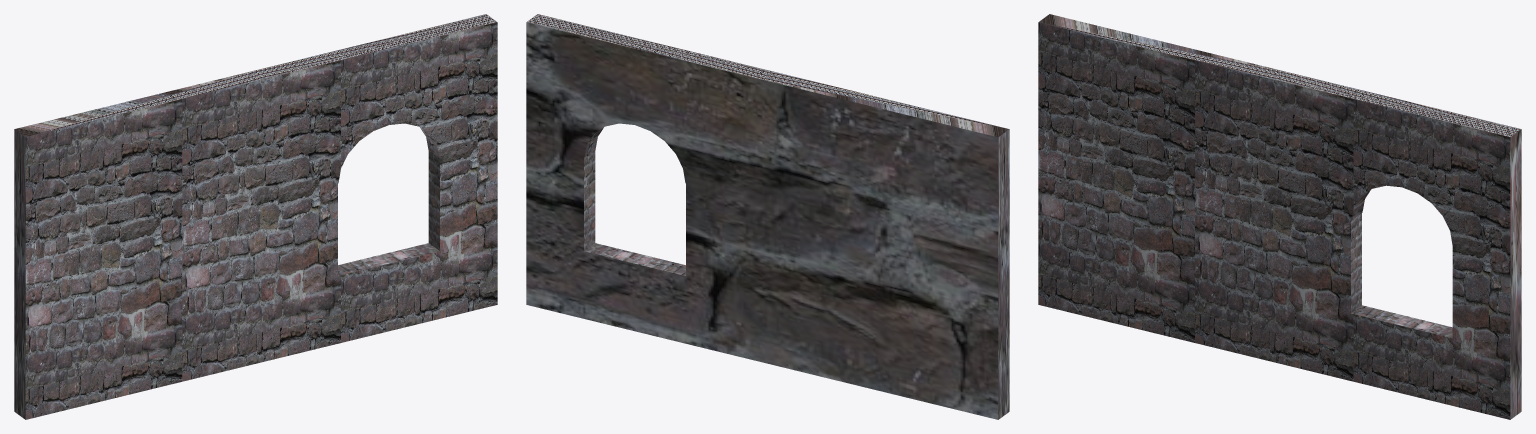
File: wallWithWindow.fbx
3 renders of one model, left to right at view 1: azimuth 30°, elevation 25°; view 2: azimuth 150°, elevation 25°; view 3: azimuth 330°, elevation 25°, orthographic.
Parts seen in each view (by area): view 1: pCube4; view 2: pCube4; view 3: pCube4.
Boxes of the visible parts, x1,y1,x2,y2 form: pCube4: [14, 14, 497, 419]; pCube4: [526, 14, 1009, 419]; pCube4: [1038, 14, 1521, 419].
Bounding box in the file's own units: 24.29 × 13.9 × 1.
Materials: 1 (1 with a texture image).
